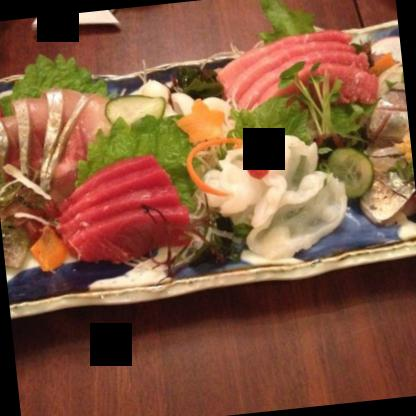tuna: (48, 147, 190, 276)
